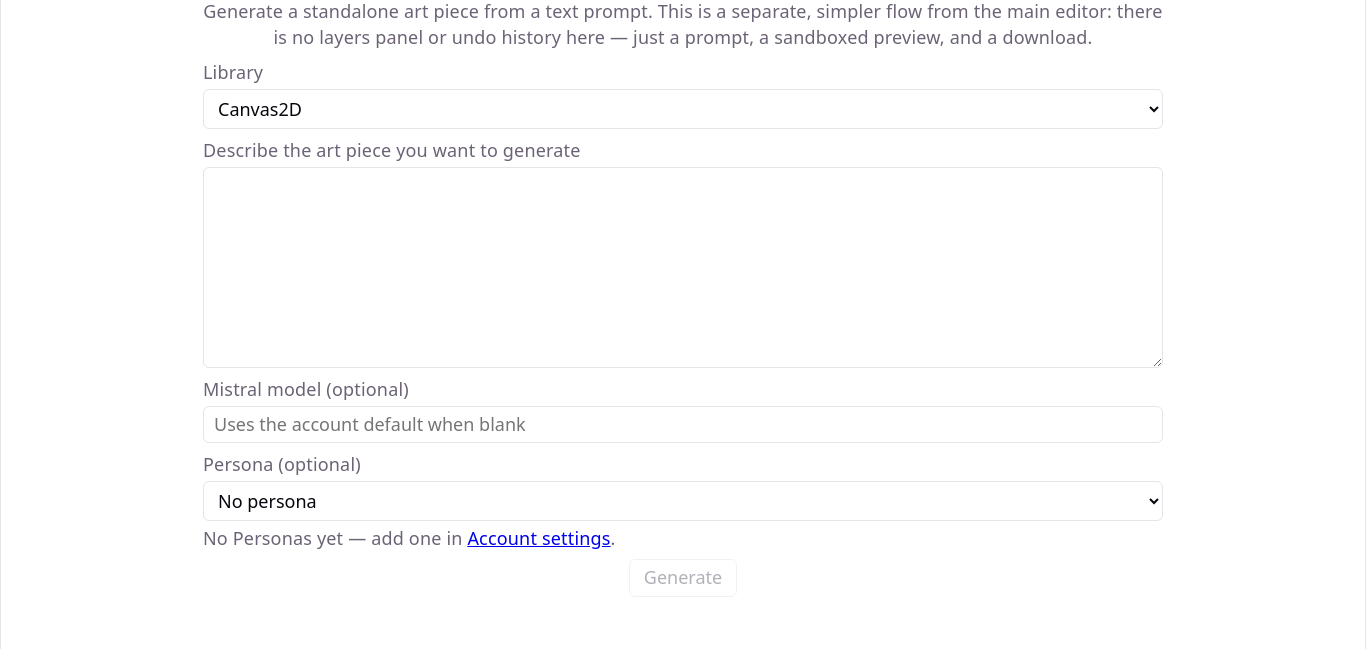
ArtPieceStudio (issue #199) › shows a crashed state (and no Download) when the sandbox reports an error
In the text box labelled "Describe the art piece you want to generate": (683, 267) [203,167,1163,368], type "a circle"
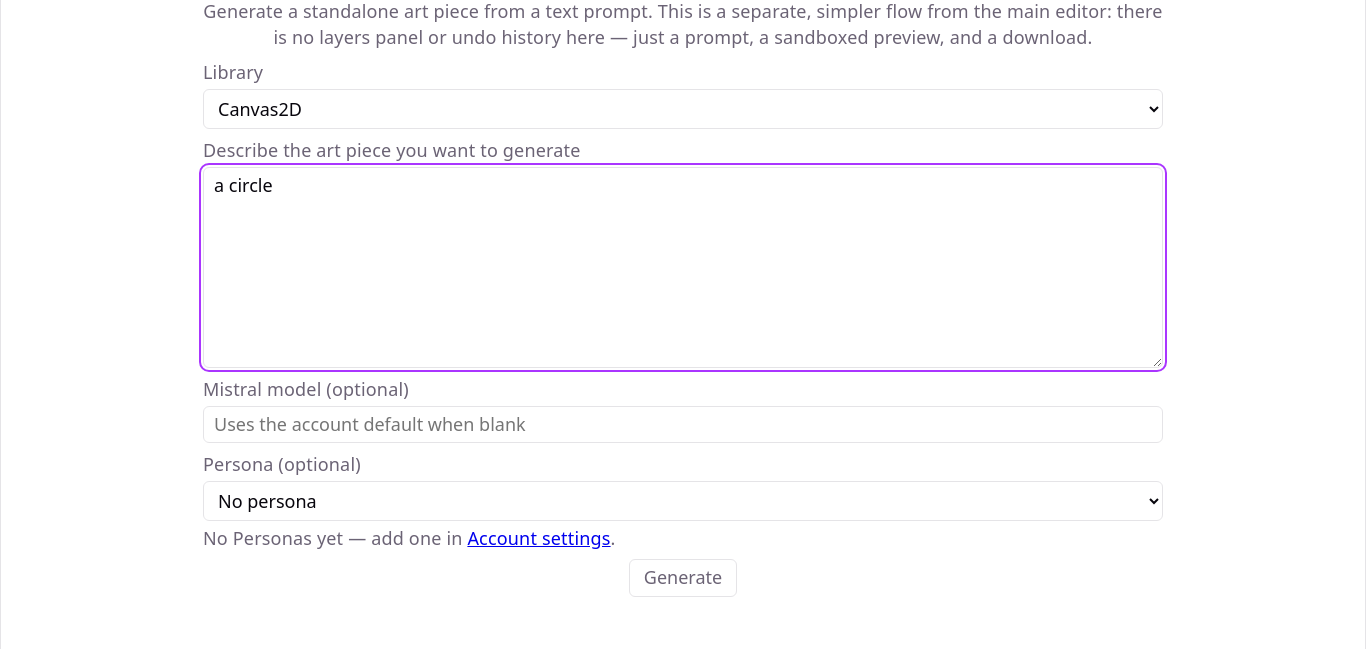
Click the button "Generate": click(683, 578) [629,560,737,597]
(page scrolled)
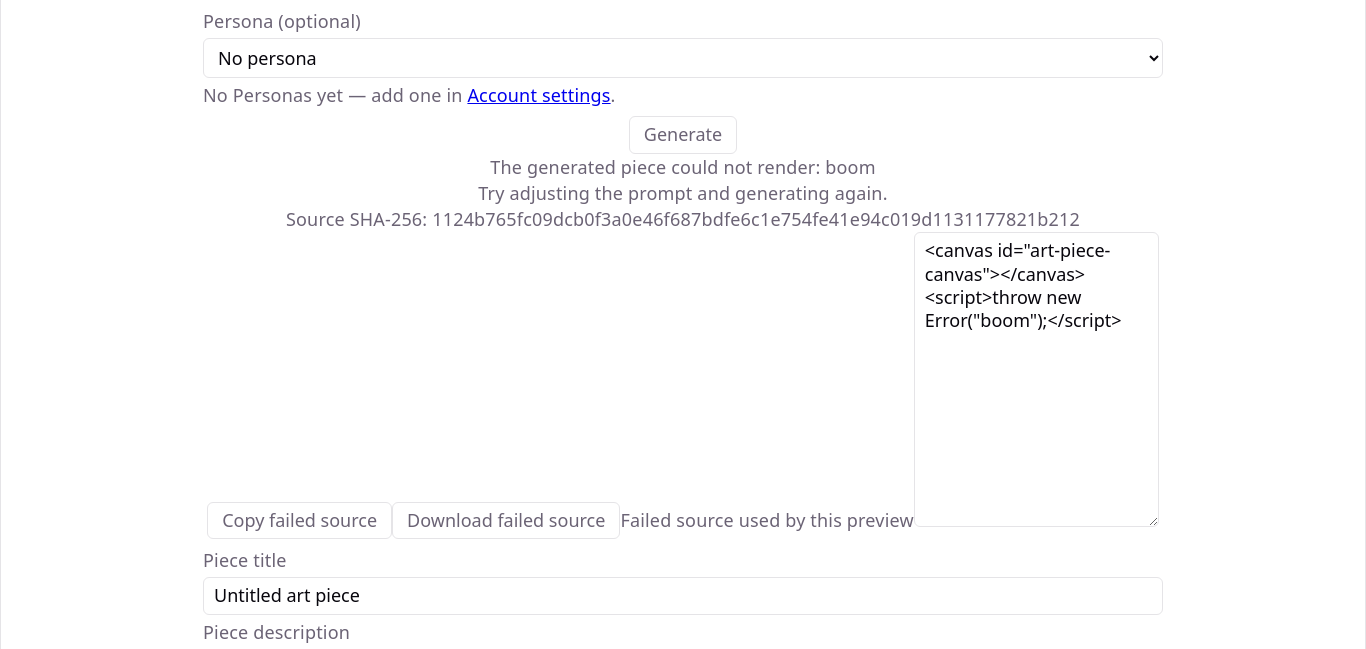
Expected: the message with test id "art-piece-crashed" shows "boom", [825,155,876,179]
